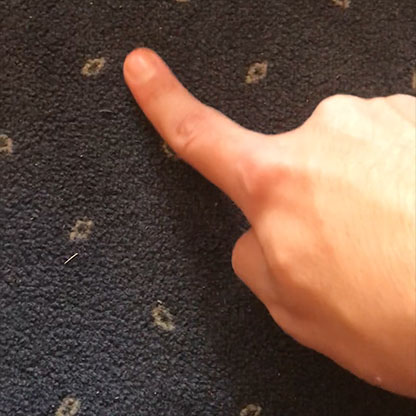fingertip: (106, 44, 170, 92)
